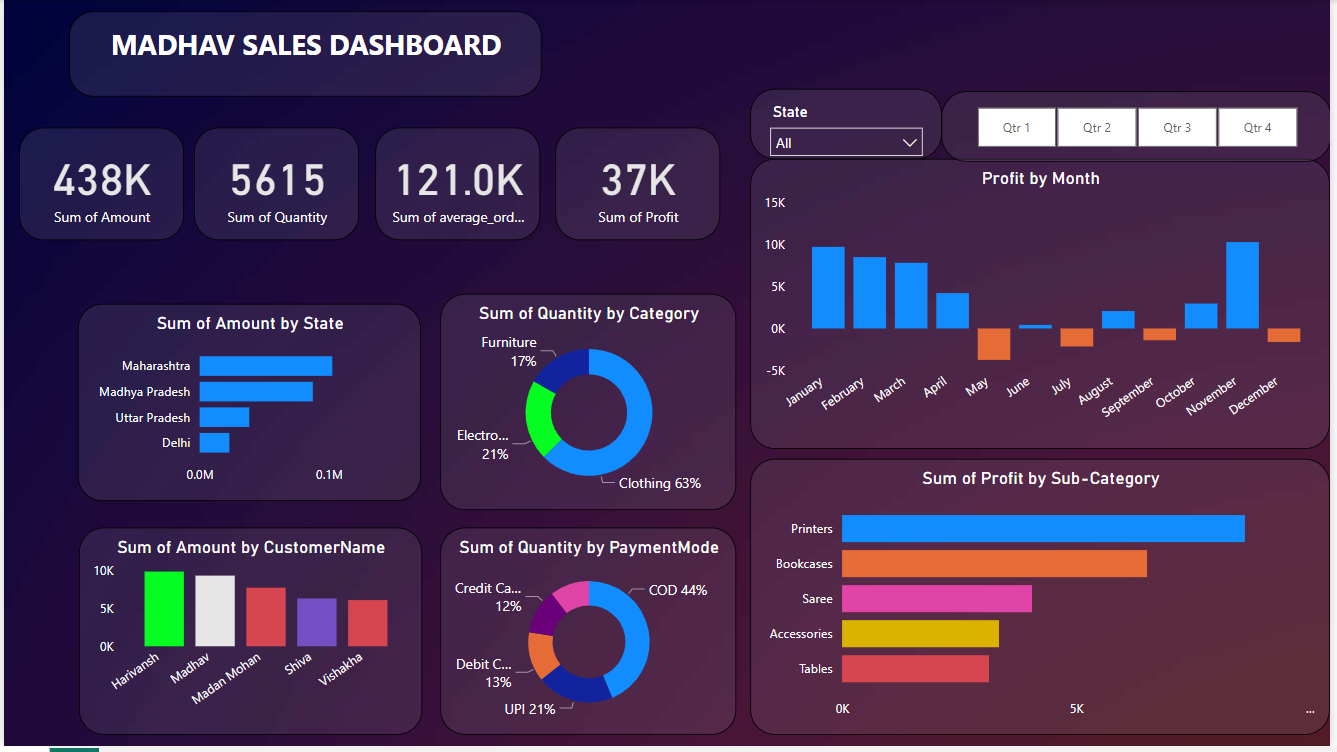

The dashboard page shown, as its layout file describes it:
{"tool":"powerbi","page":{"name":"Page 1","canvas":[1280,720],"ordinal":0},"visuals":[{"type":"textbox","box":[62.2,10.8,455.7,82.5],"z":0},{"type":"lineStackedColumnComboChart","title":"Profit by Month","fields":{"Category":["Orders.Order Date.Variation.Date Hierarchy.Month"],"Y":["Details.Profit"]},"box":[720,153.2,559.6,279.8],"z":1000},{"type":"barChart","fields":{"Category":["Details.Sub-Category"],"Y":["Details.Profit"]},"box":[720,442.6,559.6,266.5],"z":2000},{"type":"donutChart","fields":{"Category":["Details.Category"],"Y":["Details.Quantity"]},"box":[420.9,283.4,285.8,208.6],"z":3000},{"type":"donutChart","fields":{"Category":["Details.PaymentMode"],"Y":["Details.Quantity"]},"box":[420.9,508.9,285.8,200.2],"z":4000},{"type":"card","fields":{"Values":["Details.Amount"]},"box":[14.5,123,159.2,108.5],"z":5000},{"type":"card","fields":{"Values":["Details.Quantity"]},"box":[183.3,123,159.2,108.5],"z":6000},{"type":"card","fields":{"Values":["Details.Profit"]},"box":[531.9,123,159.2,108.5],"z":7000},{"type":"card","fields":{"Values":["Details.average_order_value"]},"box":[358.2,123,159.2,108.5],"z":8000},{"type":"barChart","fields":{"Category":["Orders.State"],"Y":["Details.Amount"]},"box":[71.7,293.4,331.3,190.7],"z":9000},{"type":"columnChart","fields":{"Y":["Details.Amount"],"Category":["Orders.CustomerName"]},"box":[72,509,331,200],"z":10000},{"type":"slicer","fields":{"Values":["Orders.Order Date.Variation.Date Hierarchy.Quarter"]},"box":[904.8,88.4,375.7,67.7],"z":11000},{"type":"slicer","fields":{"Values":["Orders.State"]},"box":[719.7,85.6,185.1,67.7],"z":11001}]}

Visuals, with their boxes in screenshot pixels (x1, y1, x2, y2), scaled from the page's 1280x720 canvas onto the 1337x752 screenshot:
textbox: 65/11/541/97
"Profit by Month" lineStackedColumnComboChart: 752/160/1336/452
barChart - Details.Sub-Category x Details.Profit: 752/462/1336/741
donutChart - Details.Category x Details.Quantity: 440/296/738/514
donutChart - Details.PaymentMode x Details.Quantity: 440/532/738/741
card - Details.Amount: 15/128/181/242
card - Details.Quantity: 191/128/358/242
card - Details.Profit: 556/128/722/242
card - Details.average_order_value: 374/128/540/242
barChart - Orders.State x Details.Amount: 75/306/421/506
columnChart - Details.Amount x Orders.CustomerName: 75/532/421/741
slicer - Orders.Order Date.Variation.Date Hierarchy.Quarter: 945/92/1336/163
slicer - Orders.State: 752/89/945/160
